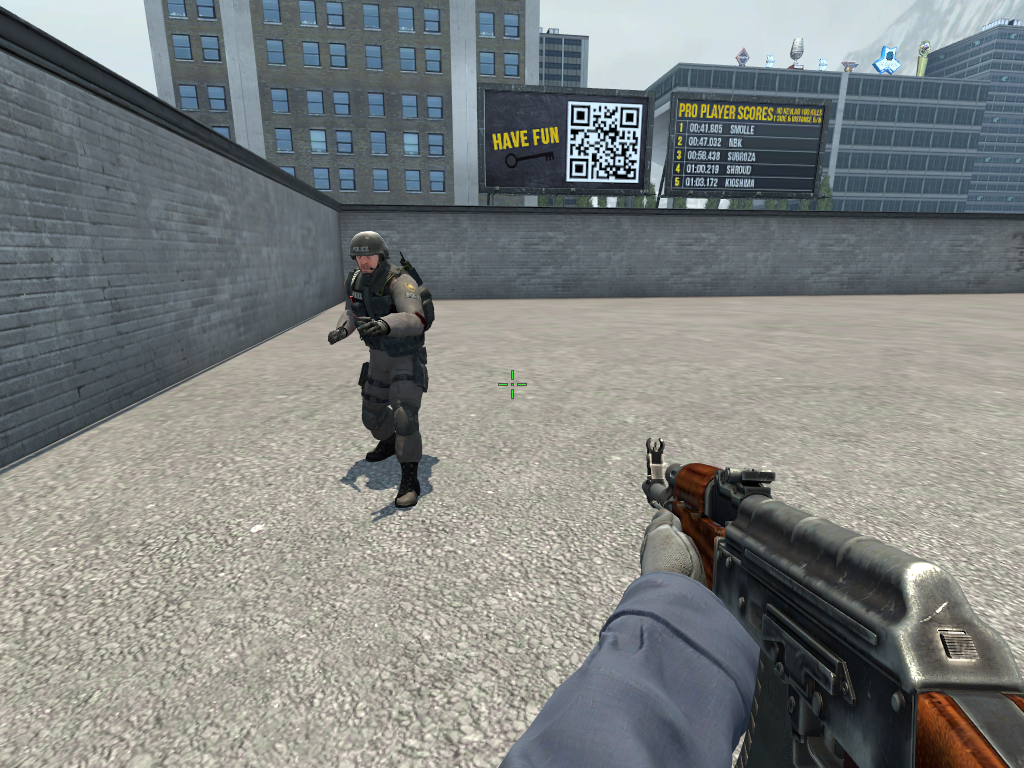ct head: (346, 228, 394, 289)
